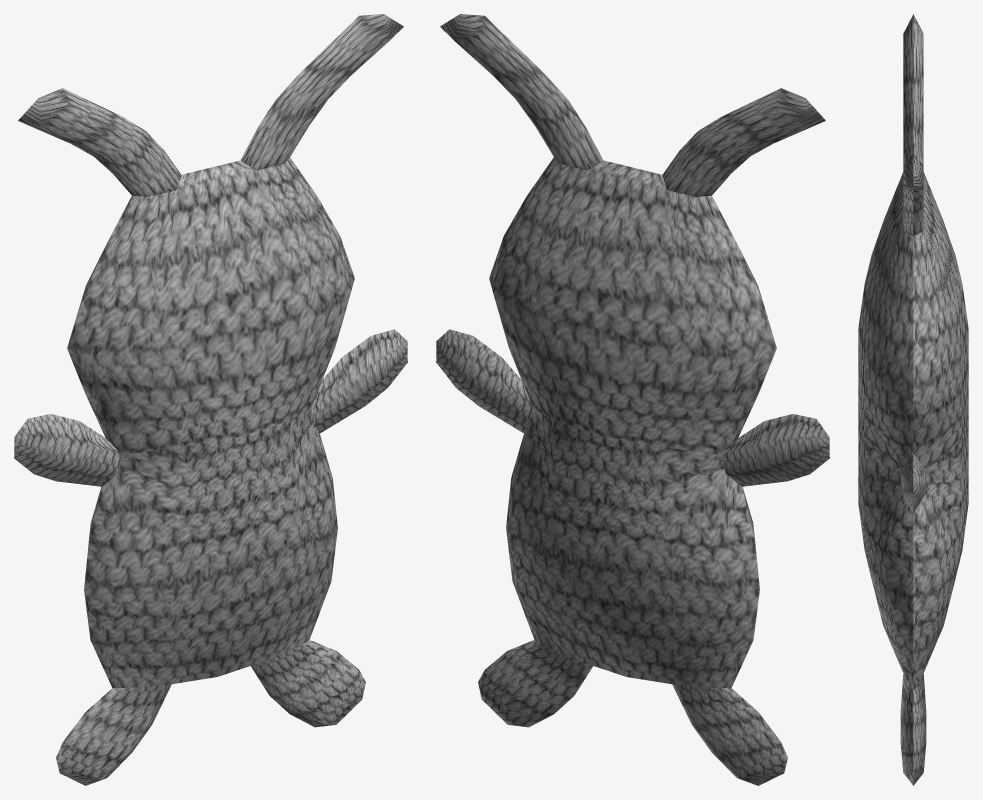
The model's file is BumbleBee_NormalizedUV (1).fbx.
3 views of the same model, side by side, from view 1: azimuth 30°, elevation 25°; view 2: azimuth 150°, elevation 25°; view 3: azimuth 270°, elevation 25° (orthographic). The views are drawn at different scales.
Visible parts, largest first — view 1: NormalizedUV_BumbleBee1; view 2: NormalizedUV_BumbleBee1; view 3: NormalizedUV_BumbleBee1.
Boxes of the visible parts, x1=… form: NormalizedUV_BumbleBee1: x1=14, y1=14, x2=407, y2=785; NormalizedUV_BumbleBee1: x1=436, y1=14, x2=829, y2=785; NormalizedUV_BumbleBee1: x1=858, y1=14, x2=968, y2=785.
Size of the model in its own units: 9.78 by 16.7 by 2.59.
